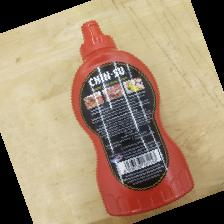Chinsu: (67, 17, 196, 218)
